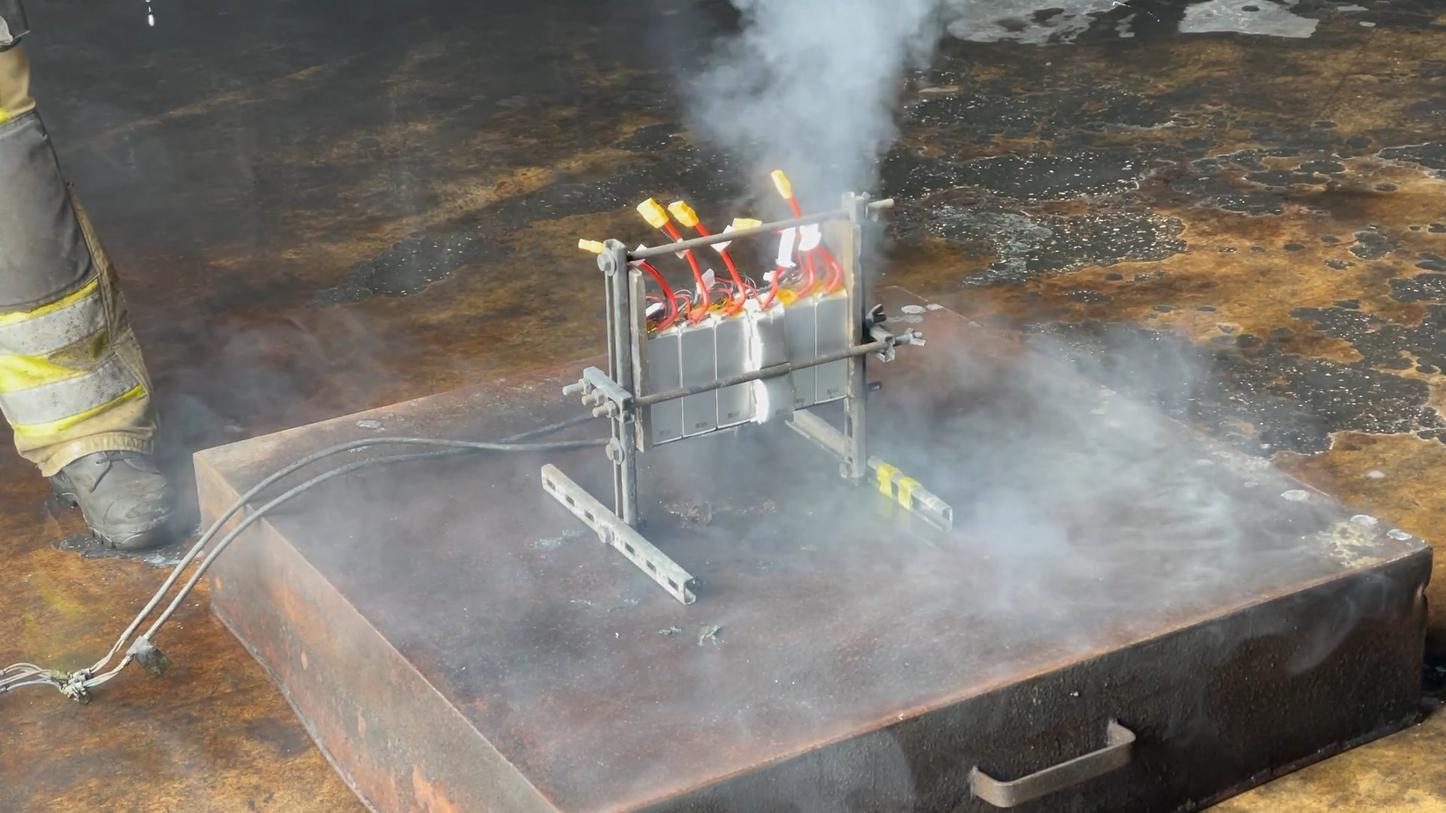smoke: (169, 279, 1294, 754), (651, 0, 946, 300)
